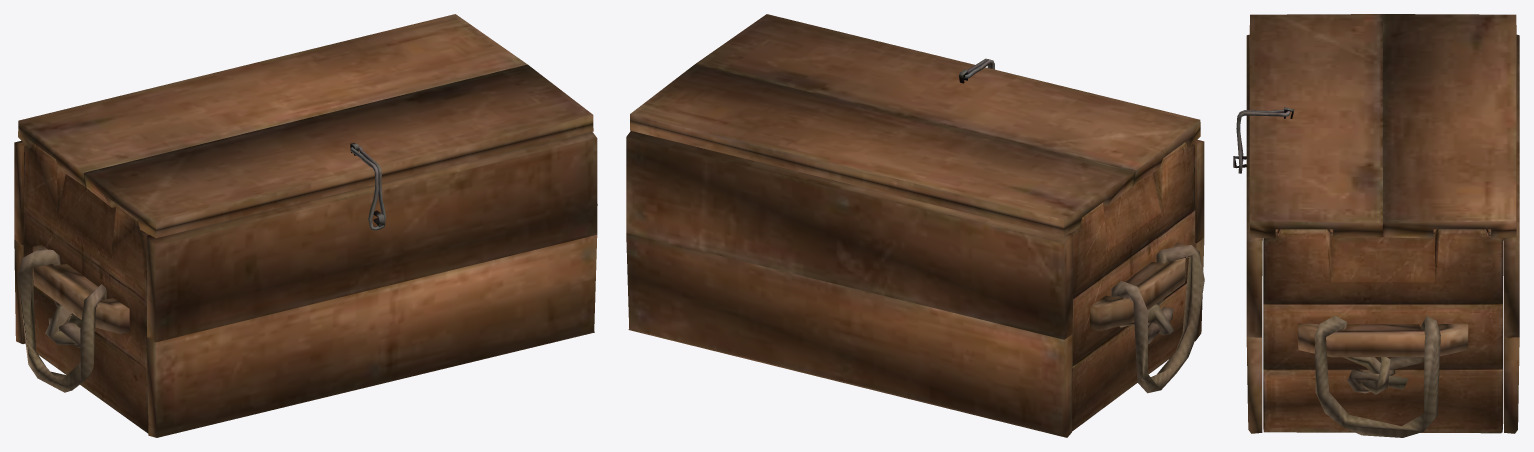
File: crate.glb
The picture shows the model from 3 angles, left to right: view 1: azimuth 30°, elevation 25°; view 2: azimuth 150°, elevation 25°; view 3: azimuth 270°, elevation 25°; orthographic projection. The views are drawn at different scales.
Visible parts, largest first — view 1: wooden_crate_01_lid; view 2: wooden_crate_01_lid; view 3: wooden_crate_01_lid.
Boxes of the visible parts, box(x1,y1,x2,y2) form: wooden_crate_01_lid: box(14, 14, 597, 437); wooden_crate_01_lid: box(626, 14, 1204, 437); wooden_crate_01_lid: box(1233, 14, 1519, 437).
Size of the model in its own units: 0.8245 by 0.3469 by 0.4042.
1 material, 1 textured.
